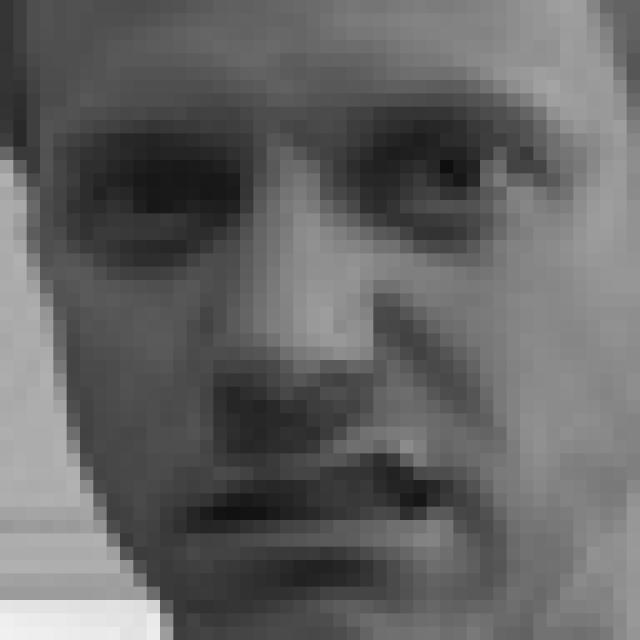disgust: (70, 94, 558, 615)
